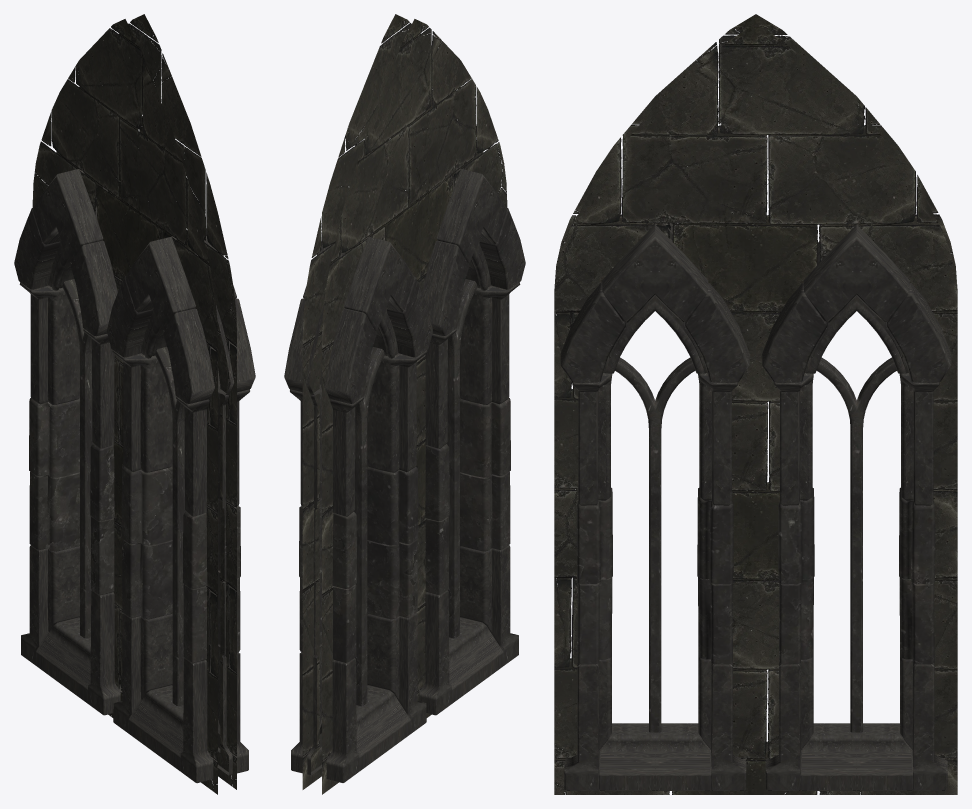
The picture shows the model from 3 angles, left to right: view 1: azimuth 30°, elevation 25°; view 2: azimuth 150°, elevation 25°; view 3: azimuth 270°, elevation 25°; orthographic projection. The views are drawn at different scales.
Parts seen in each view (by area): view 1: SM_Greathall_Window_Insert_04_LOD0; view 2: SM_Greathall_Window_Insert_04_LOD0; view 3: SM_Greathall_Window_Insert_04_LOD0.
Boxes of the visible parts, x1,y1,x2,y2 form: SM_Greathall_Window_Insert_04_LOD0: [14, 14, 255, 794]; SM_Greathall_Window_Insert_04_LOD0: [284, 14, 525, 794]; SM_Greathall_Window_Insert_04_LOD0: [554, 14, 957, 794].
Size of the model in its own units: 0.7435 by 7.66 by 3.63.
Materials: 2 (2 with a texture image).
